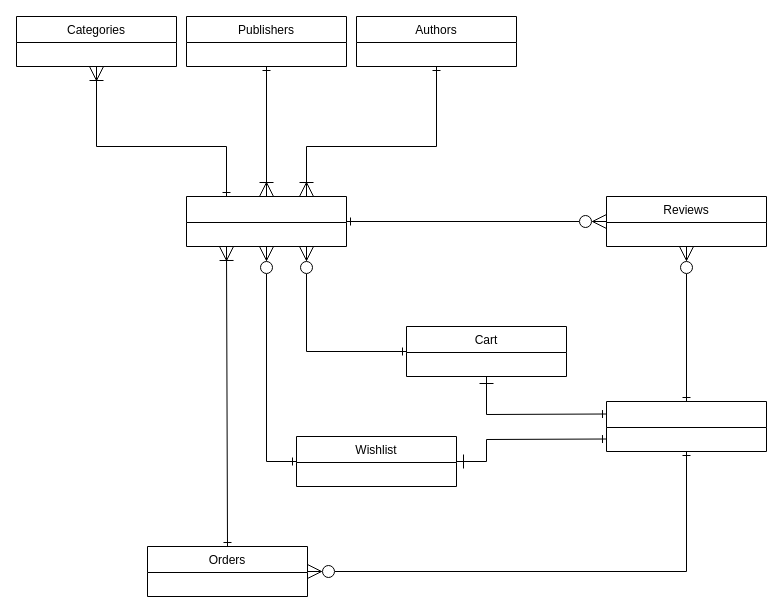
The diagram is 783 pixels wide and 613 high, and some of its shapes have lost their labels. The centre of each missing label's shape, as x and y in pixels:
"Books" belongs at point (266, 221).
"Users" belongs at point (686, 426).
